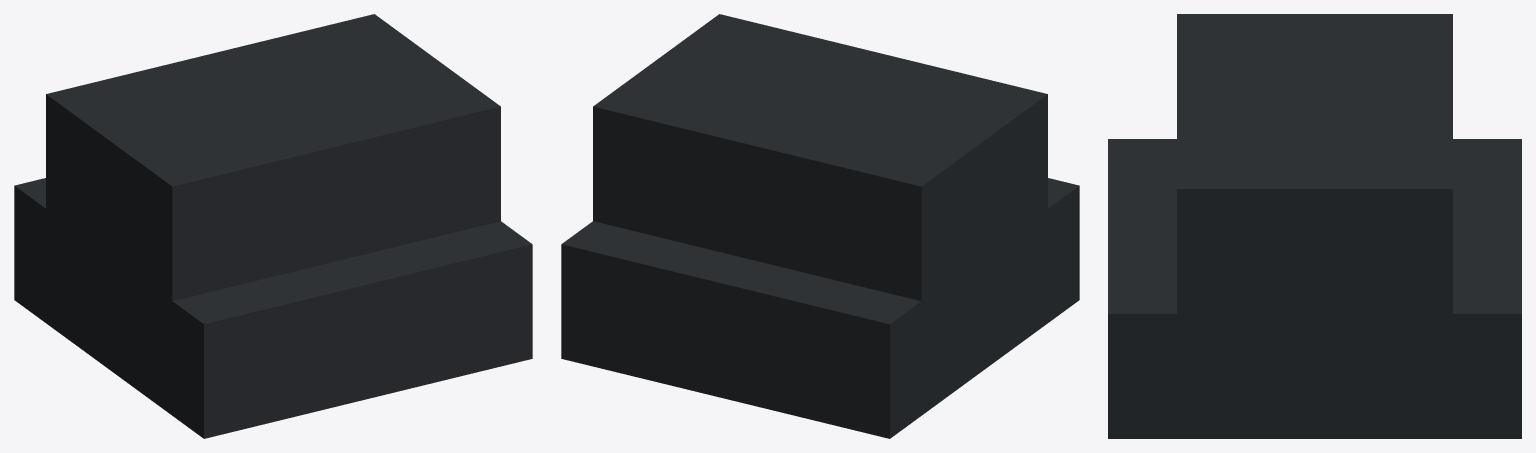
The model's file is coal-piece.glb.
3 views of the same model, side by side, from view 1: azimuth 30°, elevation 25°; view 2: azimuth 150°, elevation 25°; view 3: azimuth 270°, elevation 25° (orthographic). The views are drawn at different scales.
Parts seen in each view (by area): view 1: generated(Clone); view 2: generated(Clone); view 3: generated(Clone).
Part boxes in pixels (bbox=[...]): generated(Clone): bbox=[14, 14, 532, 438]; generated(Clone): bbox=[561, 14, 1079, 438]; generated(Clone): bbox=[1108, 14, 1521, 438].
Size of the model in its own units: 3 by 2 by 3.
Materials: 1 (1 with a texture image).
